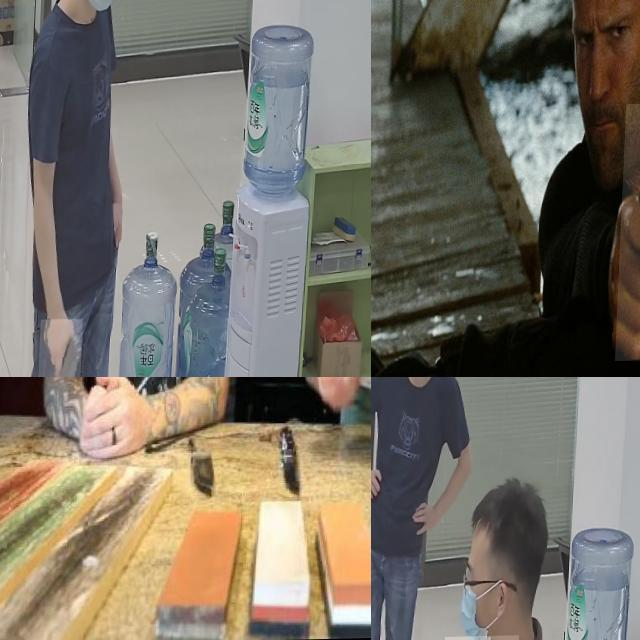gun-knife-thesis - v11 Yolov5 augmented: (620, 104, 640, 362), (41, 320, 87, 377)
